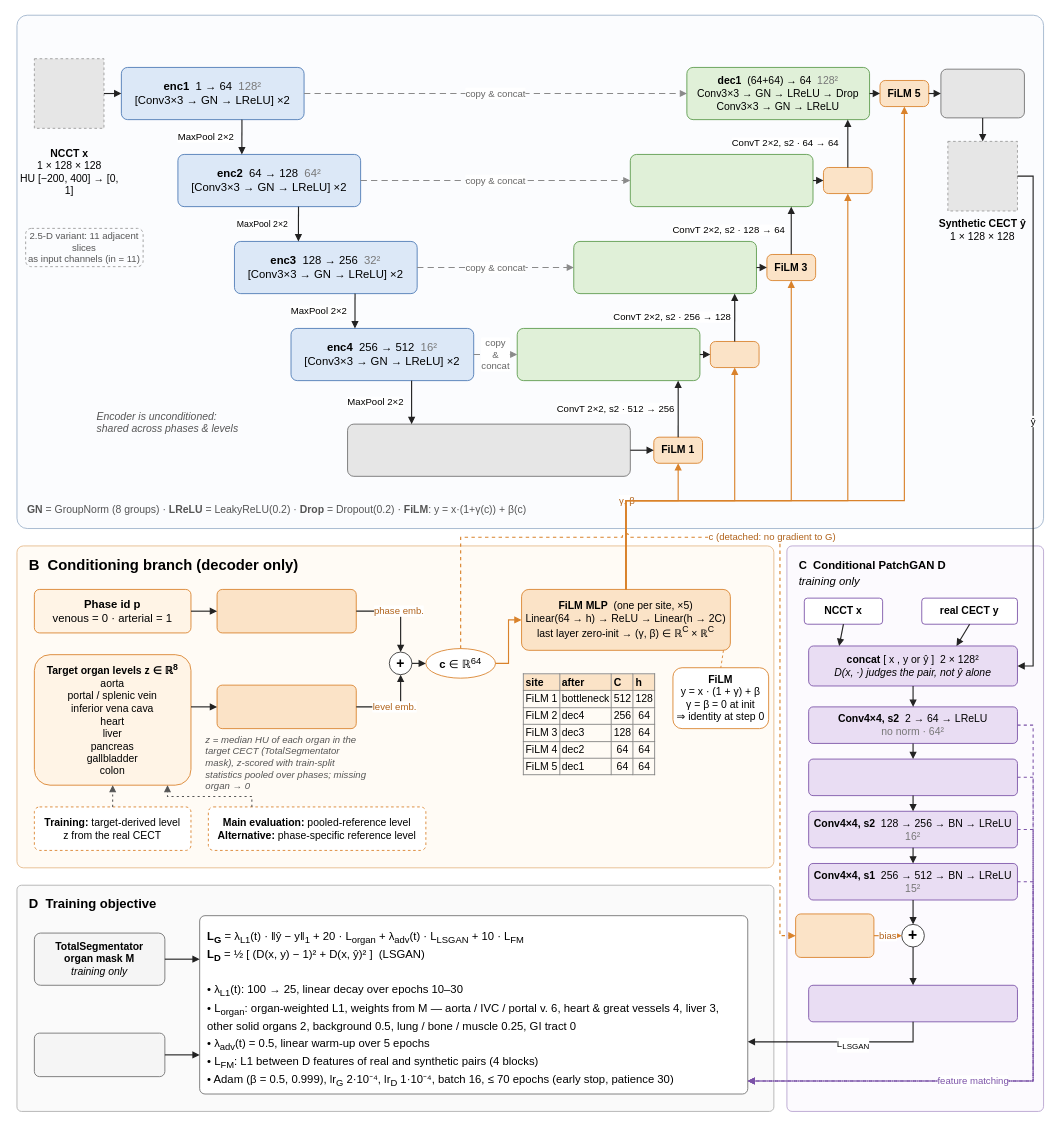
This 1059x1127 diagram has some shape labels left out. Grey dashed boxes stand in for pictures. Each missing label, with the box of its shape:
A PLC-Net generator (2-D U-Net): (16, 14, 1044, 529)
Bottleneck 512 → 512 8² [Conv3×3 → GN → LReLU → Drop] ×2: (347, 423, 630, 476)
Conv1×1 64 → 1 → Sigmoid: (940, 68, 1024, 118)
Conv4×4, s1 512 → 1 14 × 14 patch logit map (real / fake): (808, 984, 1017, 1022)
Conv4×4, s2 64 → 128 → BN → LReLU 32²: (808, 758, 1017, 796)
dec2 (64+128) → 64 64² Conv3×3 → GN → LReLU → Drop Conv3×3 → GN → LReLU: (629, 154, 813, 207)
dec3 (128+256) → 128 32² Conv3×3 → GN → LReLU → Drop Conv3×3 → GN → LReLU: (573, 241, 756, 294)
dec4 (256+512) → 256 16² Conv3×3 → GN → LReLU → Drop Conv3×3 → GN → LReLU: (516, 328, 700, 381)
FiLM 2: (709, 341, 759, 368)
FiLM 4: (823, 167, 872, 194)
Linear (64 → 512) zero-init: (795, 913, 874, 957)
Linear (8 → 64) zero-init: (216, 684, 356, 729)
nn.Embedding (2, 64): (216, 589, 356, 633)
Target CECT y (venous or arterial): (33, 1032, 165, 1077)
